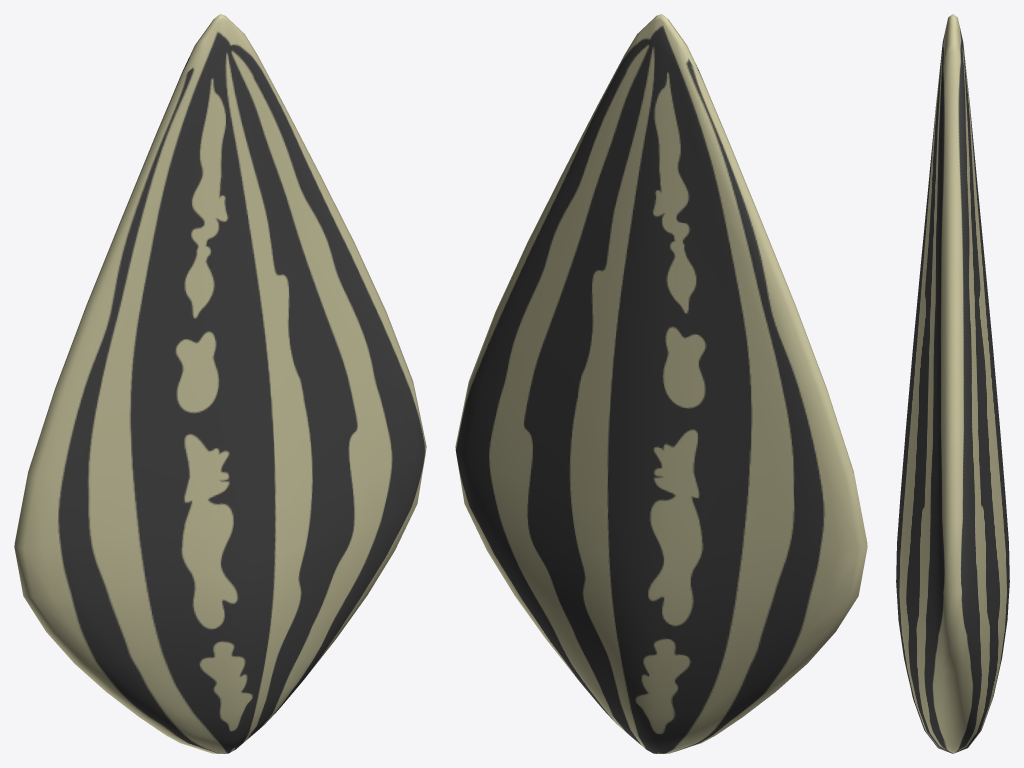
The model's file is Seed.fbx.
3 views of the same model, side by side, from view 1: azimuth 30°, elevation 25°; view 2: azimuth 150°, elevation 25°; view 3: azimuth 270°, elevation 25° (orthographic).
Visible parts, largest first — view 1: pCube1; view 2: pCube1; view 3: pCube1.
Part boxes in pixels (left/top/right/bottom): pCube1: left=14, top=14, right=426, bottom=753; pCube1: left=455, top=14, right=867, bottom=753; pCube1: left=896, top=14, right=1009, bottom=753.
Bounding box in the file's own units: 0.9273 × 1.59 × 0.2221.
